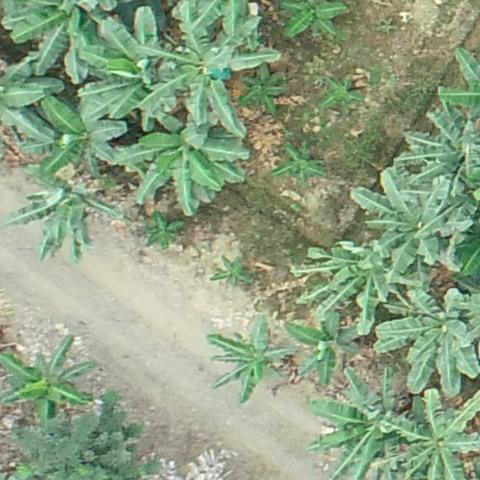Banana-plant: (139, 10, 275, 136), (130, 117, 258, 216), (80, 20, 184, 135), (385, 286, 480, 403), (14, 163, 126, 261), (311, 376, 414, 480), (300, 236, 414, 329), (1, 332, 106, 431), (354, 171, 453, 270), (7, 0, 124, 83), (26, 92, 127, 179), (382, 393, 480, 480), (202, 319, 296, 406), (400, 107, 480, 202), (280, 0, 350, 44), (273, 139, 331, 189), (240, 61, 292, 116), (310, 71, 364, 115), (207, 251, 257, 295), (140, 211, 189, 251)
